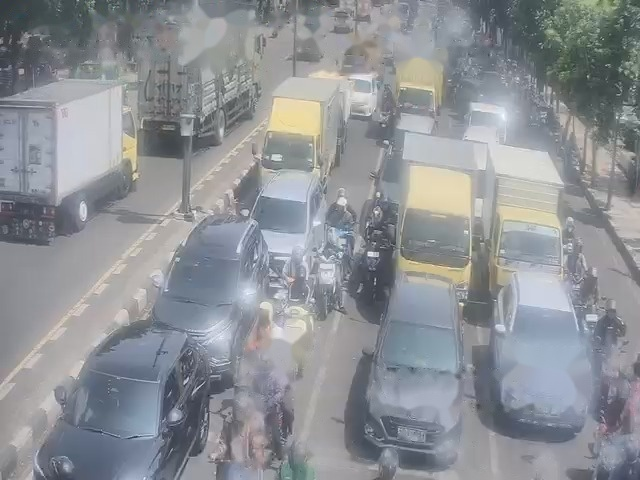Mobil: (32, 320, 207, 477), (374, 282, 457, 459), (157, 214, 265, 350), (501, 277, 581, 422), (250, 171, 326, 266), (468, 103, 506, 142), (348, 75, 373, 120)
Motor: (260, 281, 314, 382), (598, 337, 624, 410), (572, 266, 599, 317), (315, 263, 338, 317), (566, 237, 587, 283), (366, 234, 378, 280)
Truk: (0, 83, 131, 242), (138, 7, 266, 144), (399, 143, 484, 294), (253, 77, 347, 182), (494, 147, 566, 283), (395, 57, 442, 118)
